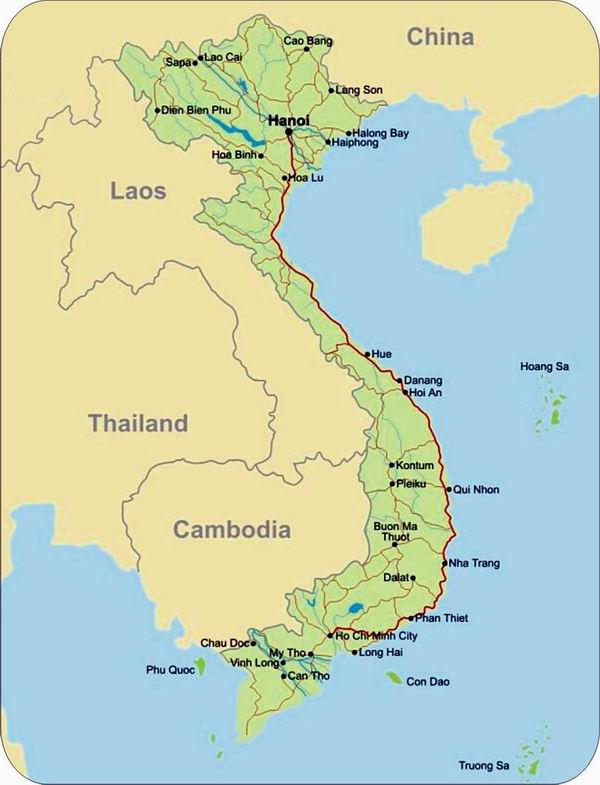Island: (455, 722, 560, 784), (515, 358, 583, 442)
